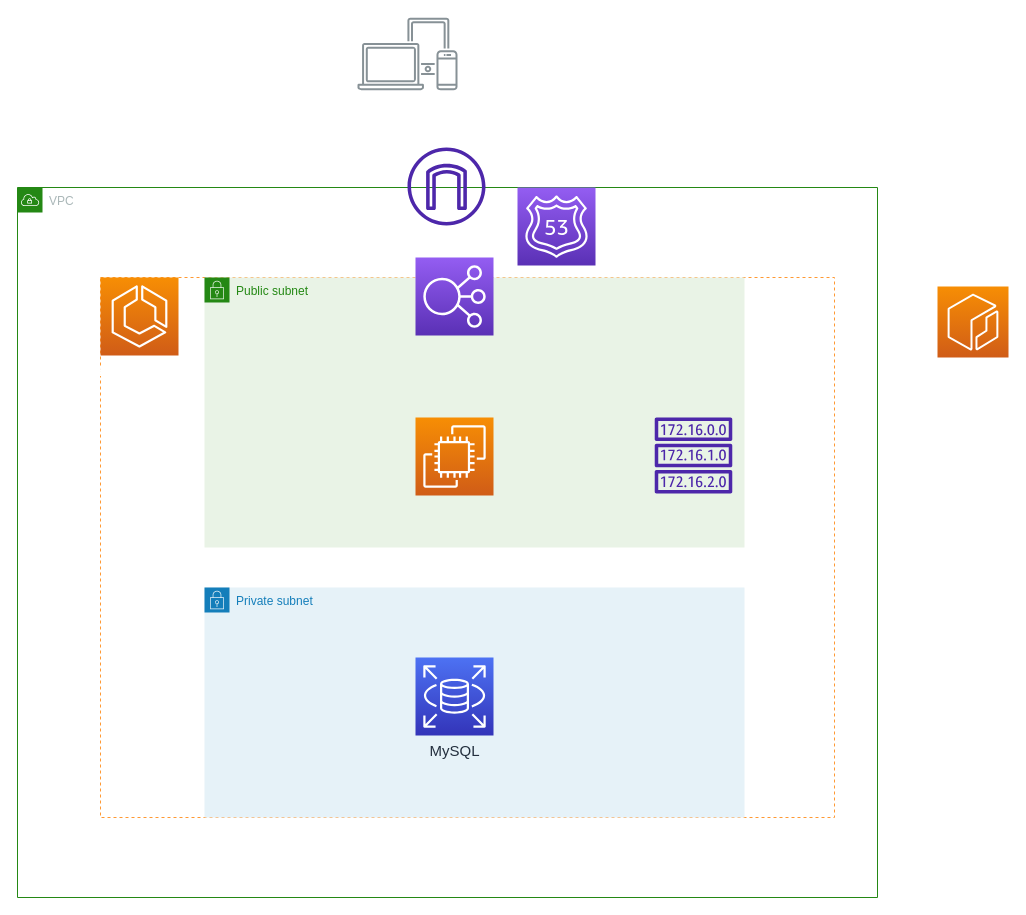
The diagram is 1026 pixels wide and 915 high, and some of its shapes have lost their labels. Each missing label, with the centre of its shape:
"devices" belongs at (407,53).
"EC2 instance" belongs at (454,456).
"ELB" belongs at (454,296).
